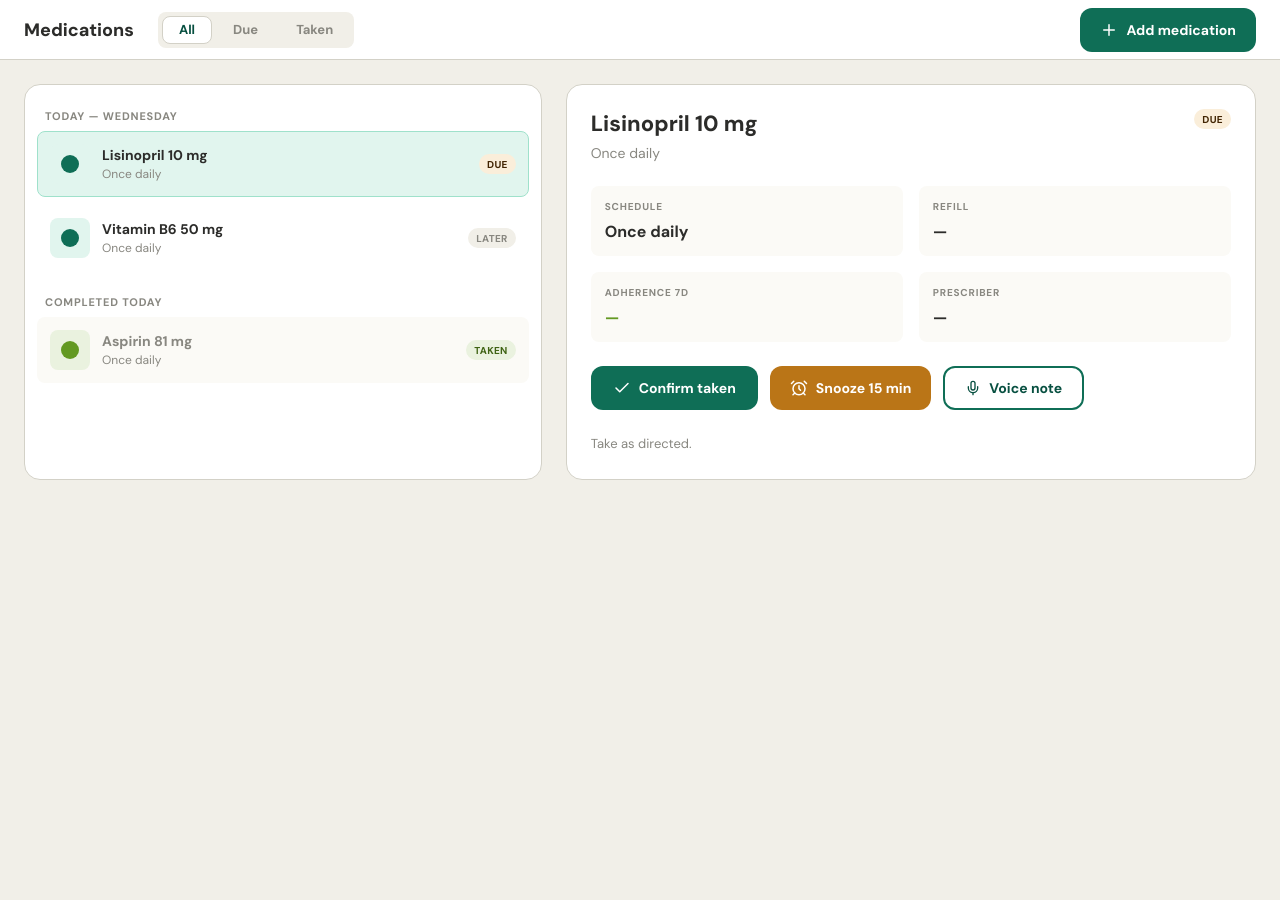
Test: MedicationsScreen › opens the voice-note dialog for the selected medication
Step 1. Click the button "Voice note" → (1014, 388), box [943,366,1084,410]
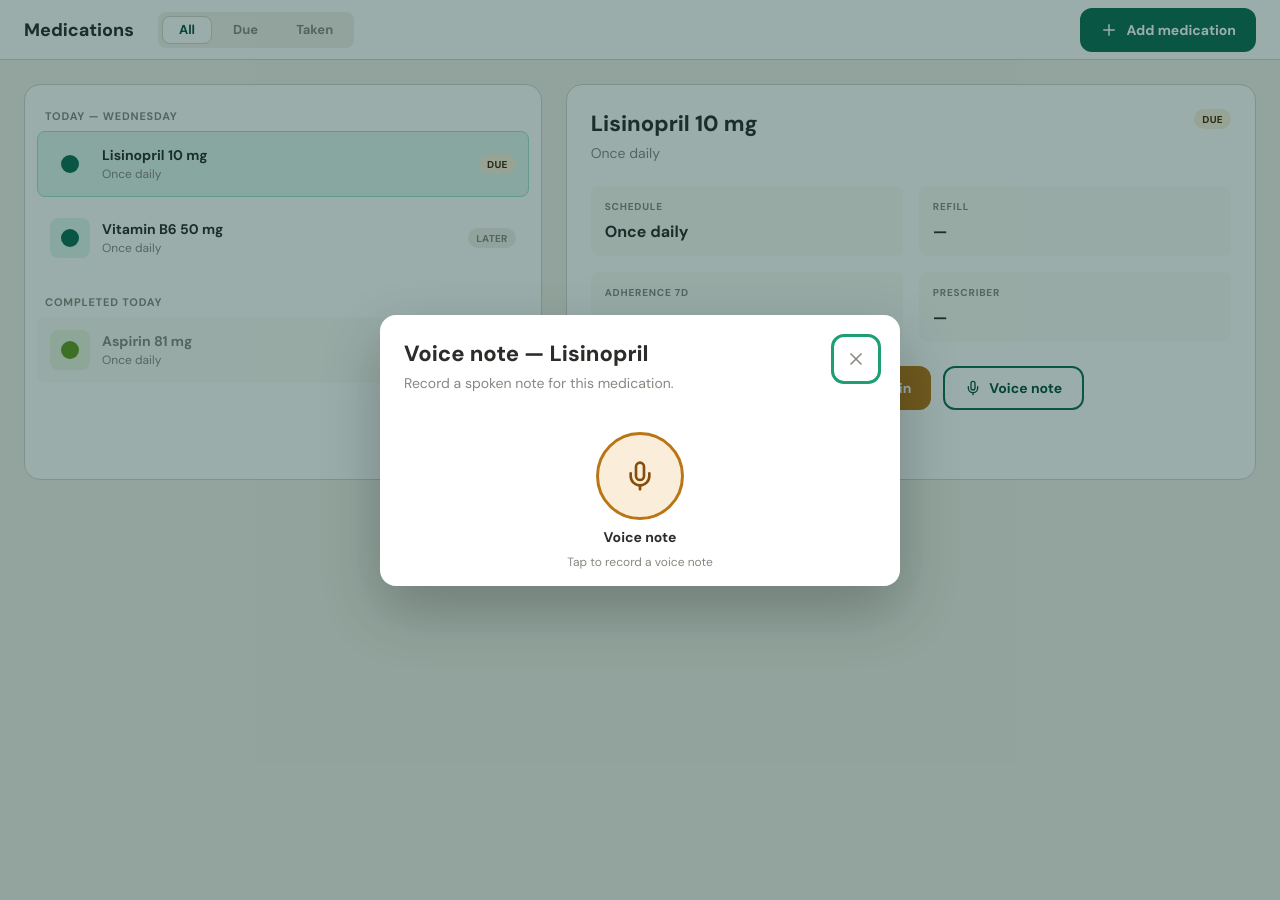
Expected: the dialog "Voice note — Lisinopril" is shown, [380,314,900,586]
